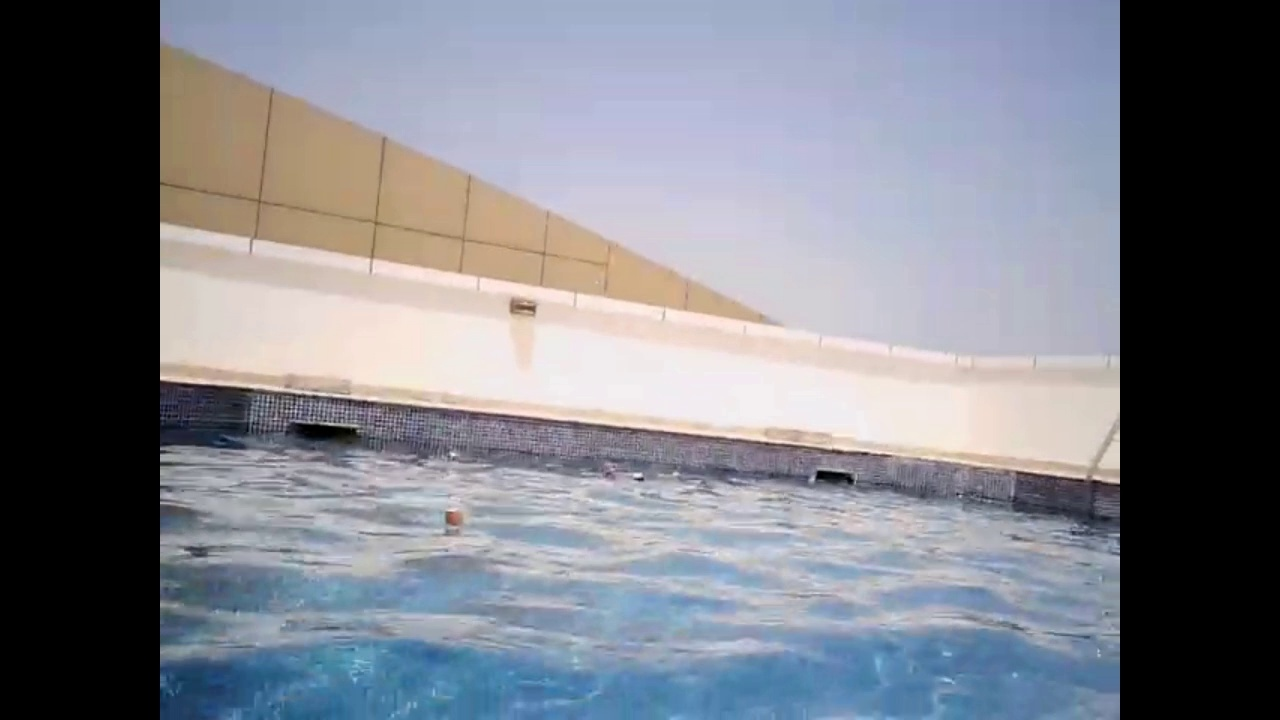debris: (442, 497, 469, 539), (594, 455, 622, 482), (440, 447, 462, 467), (665, 464, 683, 483), (628, 470, 649, 483)
